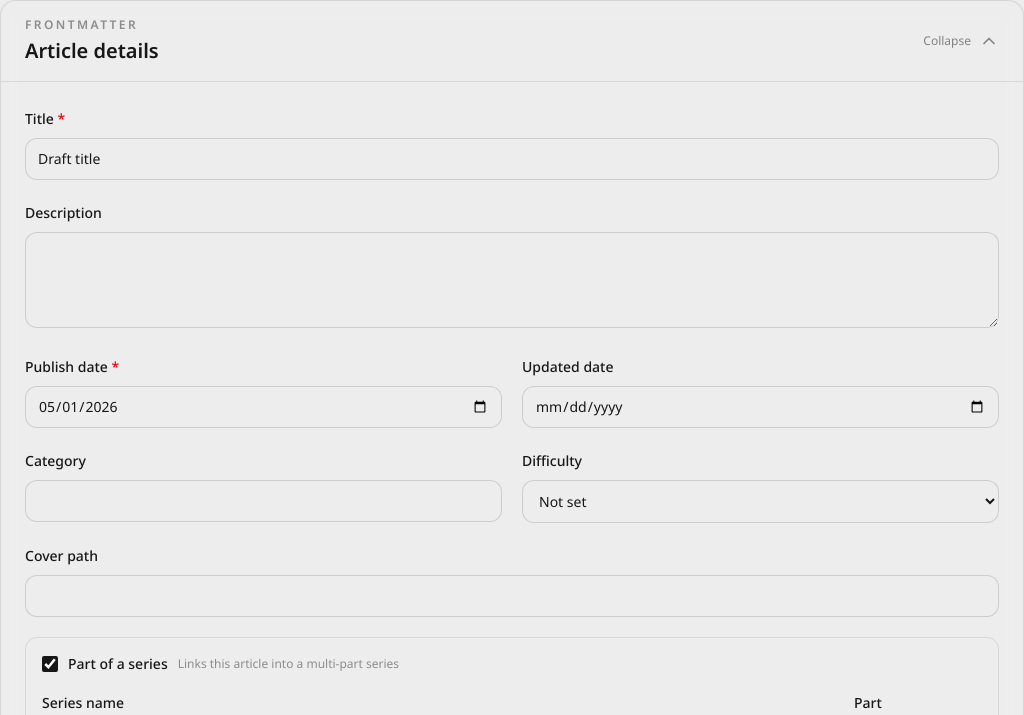
Test: FrontmatterForm › drops the series when the checkbox is unticked
Click the checkbox labelled "Part of a series Links this article into a multi-part series" at [50, 664], box [42,656,58,672]
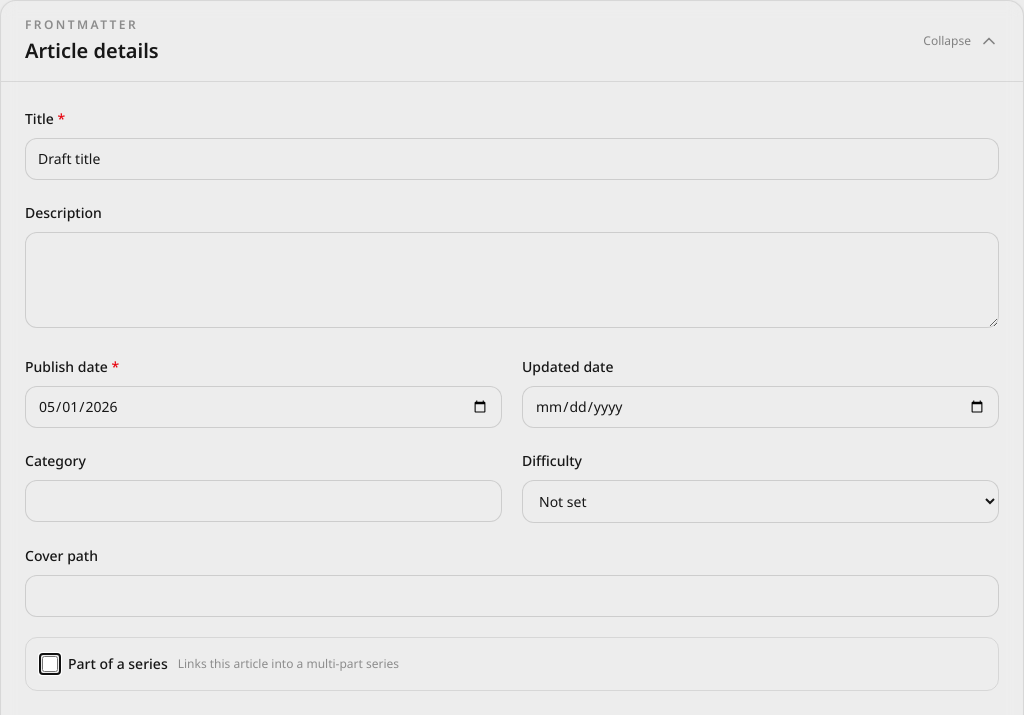
Now the text labelled "Series name" is gone
